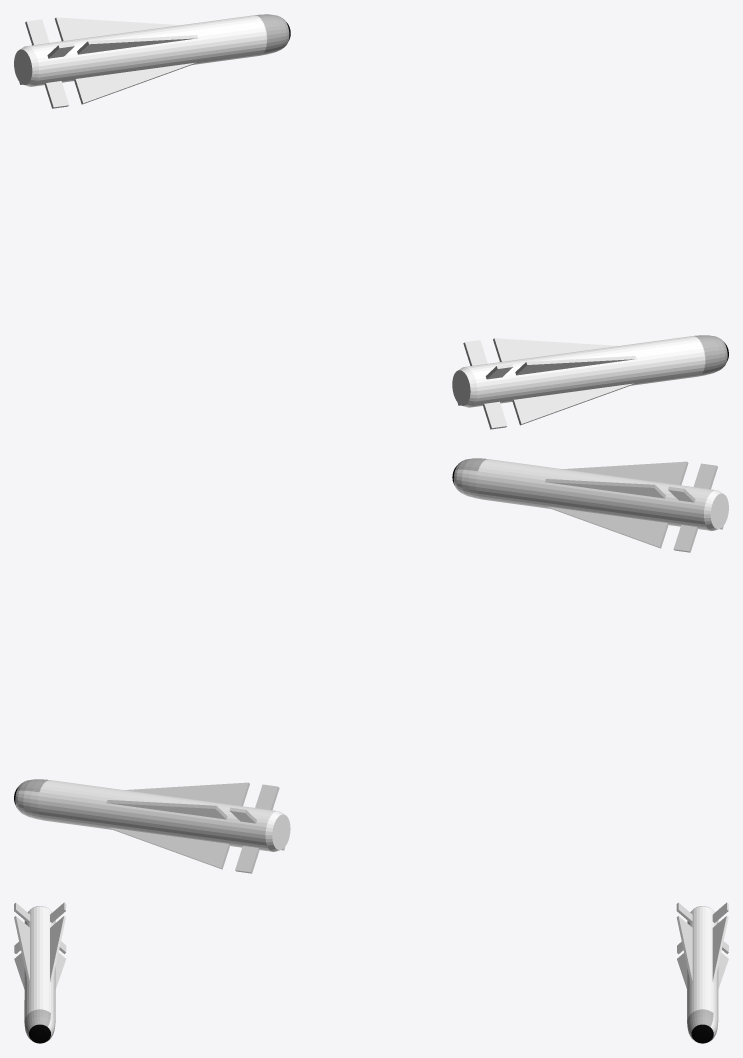
Rendered from a10cagm6538.glb.
3 views of the same model, one above another, from view 1: azimuth 30°, elevation 25°; view 2: azimuth 150°, elevation 25°; view 3: azimuth 270°, elevation 25° (orthographic). The views are drawn at different scales.
Visible parts, largest first — view 1: 立方体.006, 立方体.004; view 2: 立方体.004, 立方体.006; view 3: 立方体.006, 立方体.004.
Part boxes in pixels (box(x1,y1,x2,y2)): 立方体.006: box(452, 335, 728, 429); 立方体.004: box(14, 14, 290, 108); 立方体.004: box(14, 779, 290, 873); 立方体.006: box(452, 458, 728, 552); 立方体.006: box(14, 902, 66, 1043); 立方体.004: box(676, 902, 728, 1043).
Bounding box in the file's own units: 2.52 × 0.6673 × 7.76.
1 material, 1 textured.
